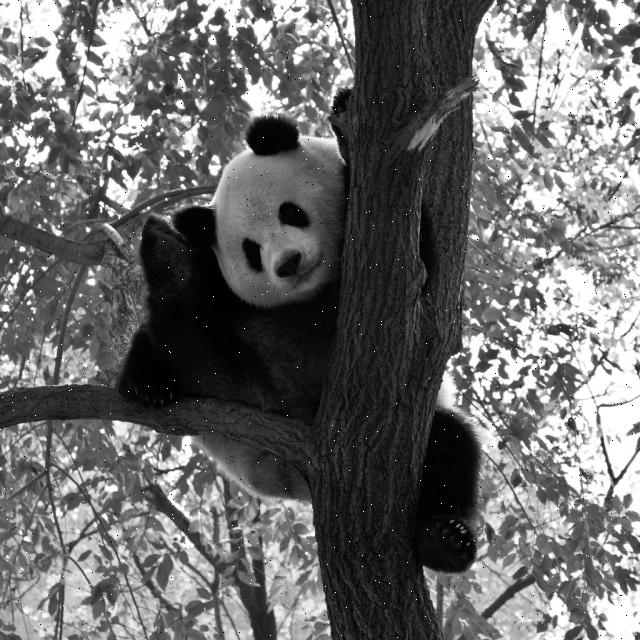panda: (97, 83, 485, 582)
